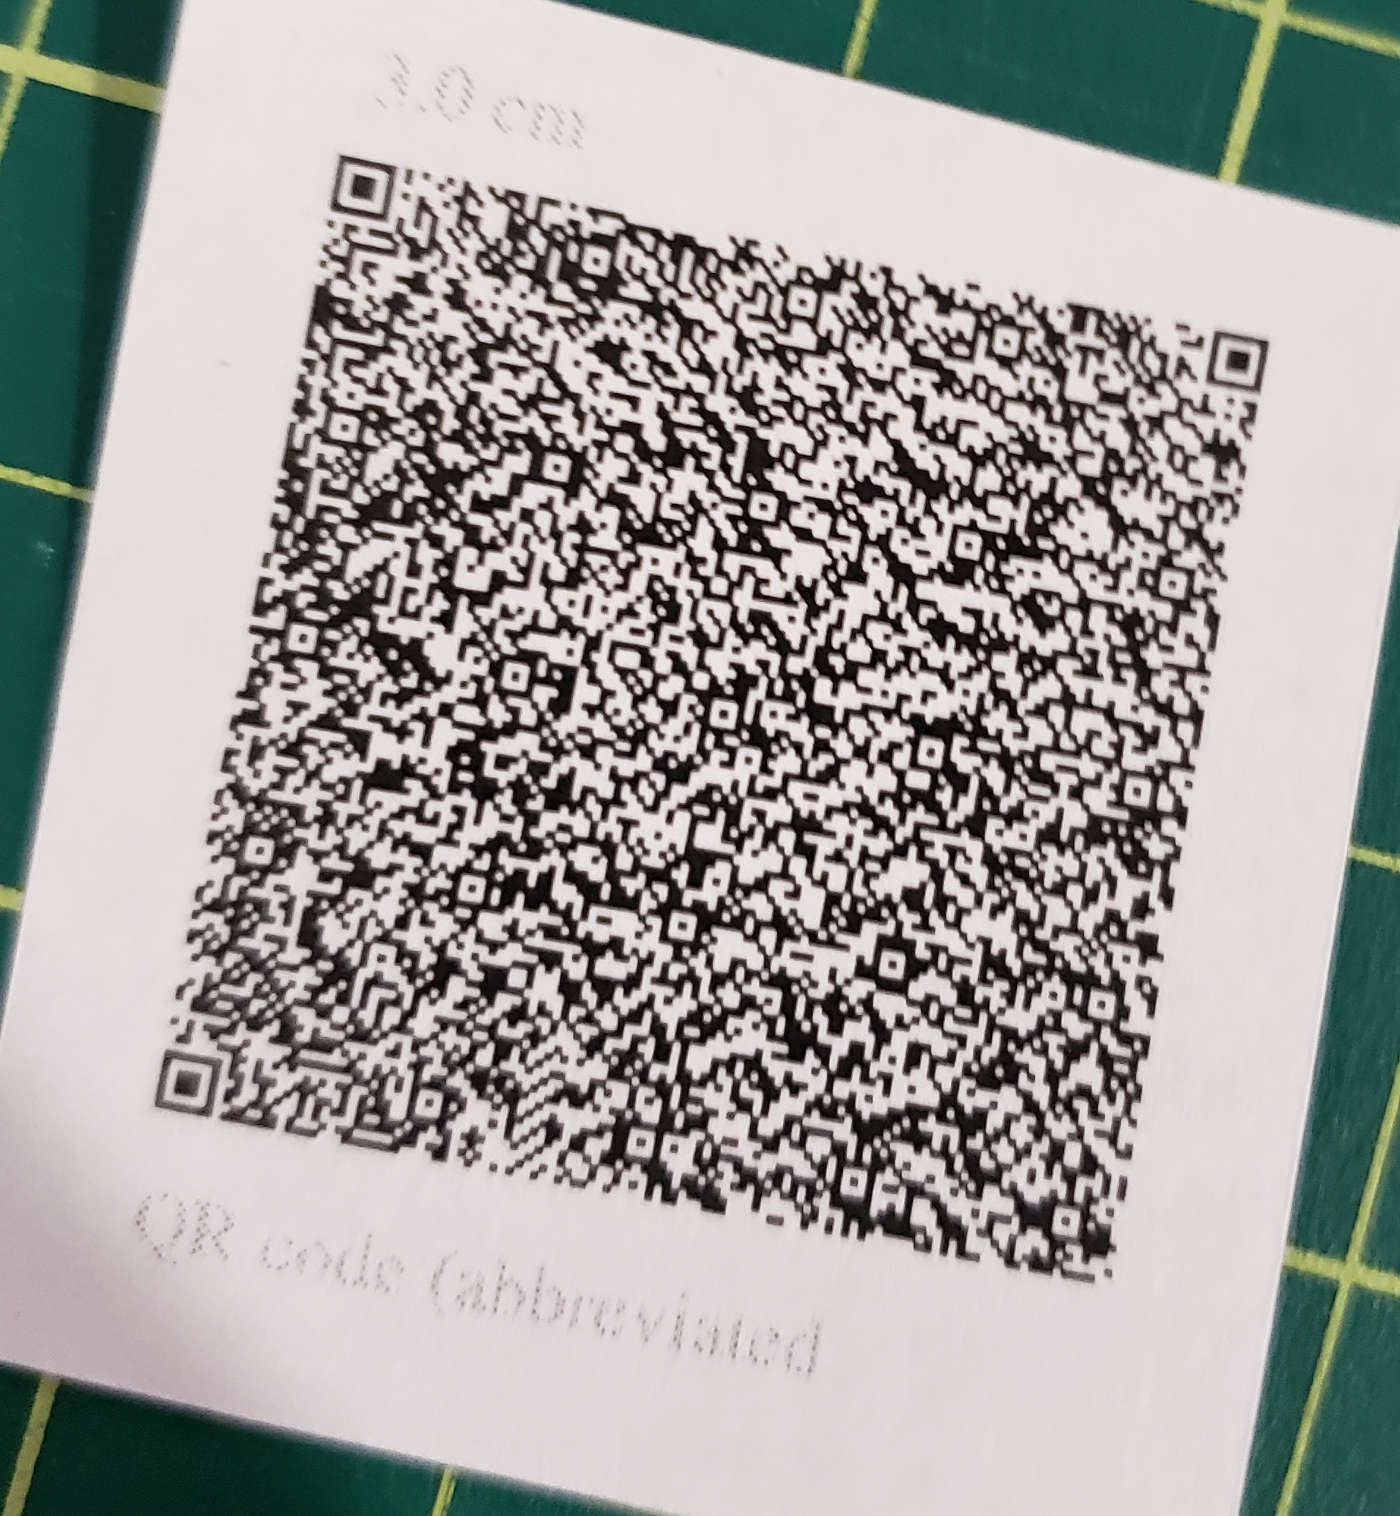QR_CODE: (128, 69, 1312, 1325)
